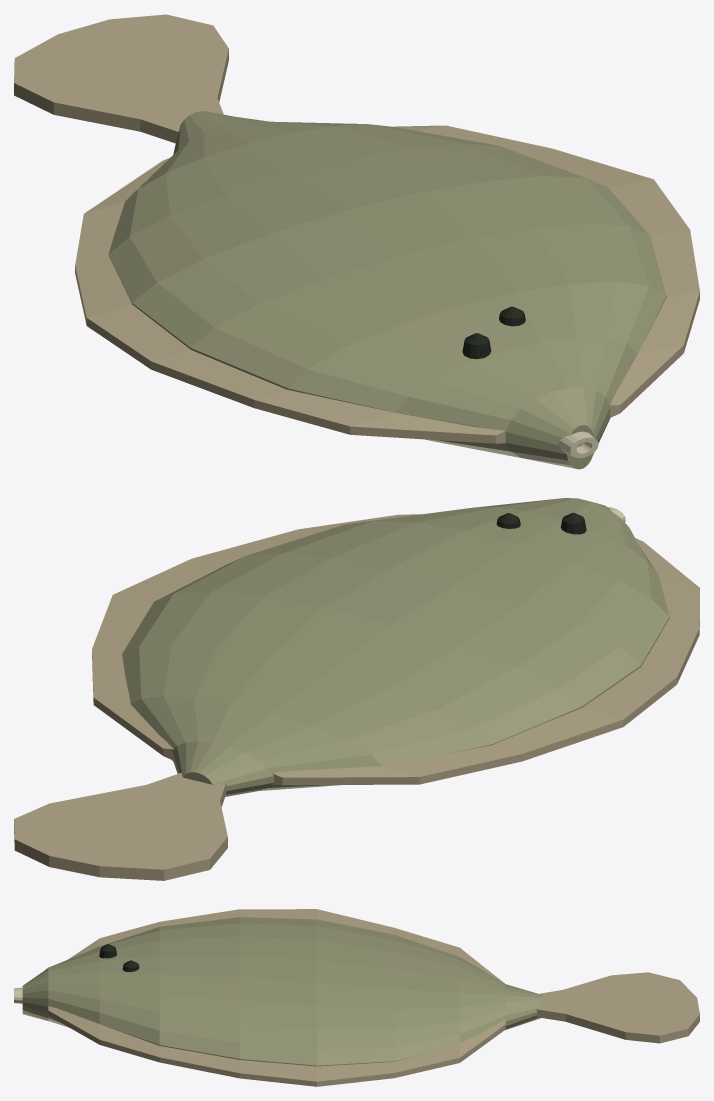
3 renders of one model, top to bottom at view 1: azimuth 30°, elevation 25°; view 2: azimuth 150°, elevation 25°; view 3: azimuth 270°, elevation 25°, orthographic. The views are drawn at different scales.
Visible parts, largest first — view 1: WholeLowAsymmetricOvalBodyAndShortTailStock, WholeRoundedBroadFlatfishTailFan, WholeLongContinuousFlatfishFinMargin0, WholeLongContinuousFlatfishFinMargin1, WholeShortOffsetFlatfishMouthRim; view 2: WholeLowAsymmetricOvalBodyAndShortTailStock, WholeRoundedBroadFlatfishTailFan, WholeLongContinuousFlatfishFinMargin0, WholeLongContinuousFlatfishFinMargin1; view 3: WholeLowAsymmetricOvalBodyAndShortTailStock, WholeLongContinuousFlatfishFinMargin1, WholeRoundedBroadFlatfishTailFan, WholeLongContinuousFlatfishFinMargin0.
Boxes of the visible parts, x1,y1,x2,y2 form: WholeLowAsymmetricOvalBodyAndShortTailStock: (108, 111, 666, 469); WholeRoundedBroadFlatfishTailFan: (14, 14, 228, 143); WholeLongContinuousFlatfishFinMargin0: (75, 157, 505, 443); WholeLongContinuousFlatfishFinMargin1: (393, 125, 699, 417); WholeShortOffsetFlatfishMouthRim: (558, 431, 598, 458); WholeLowAsymmetricOvalBodyAndShortTailStock: (122, 498, 669, 796); WholeRoundedBroadFlatfishTailFan: (14, 772, 227, 880); WholeLongContinuousFlatfishFinMargin0: (272, 538, 699, 785); WholeLongContinuousFlatfishFinMargin1: (92, 514, 420, 760); WholeLowAsymmetricOvalBodyAndShortTailStock: (22, 917, 542, 1066); WholeLongContinuousFlatfishFinMargin1: (48, 1006, 505, 1086); WholeRoundedBroadFlatfishTailFan: (536, 972, 699, 1043); WholeLongContinuousFlatfishFinMargin0: (68, 909, 504, 983).
Bounding box in the file's own units: 1.43 × 0.249 × 2.4.
